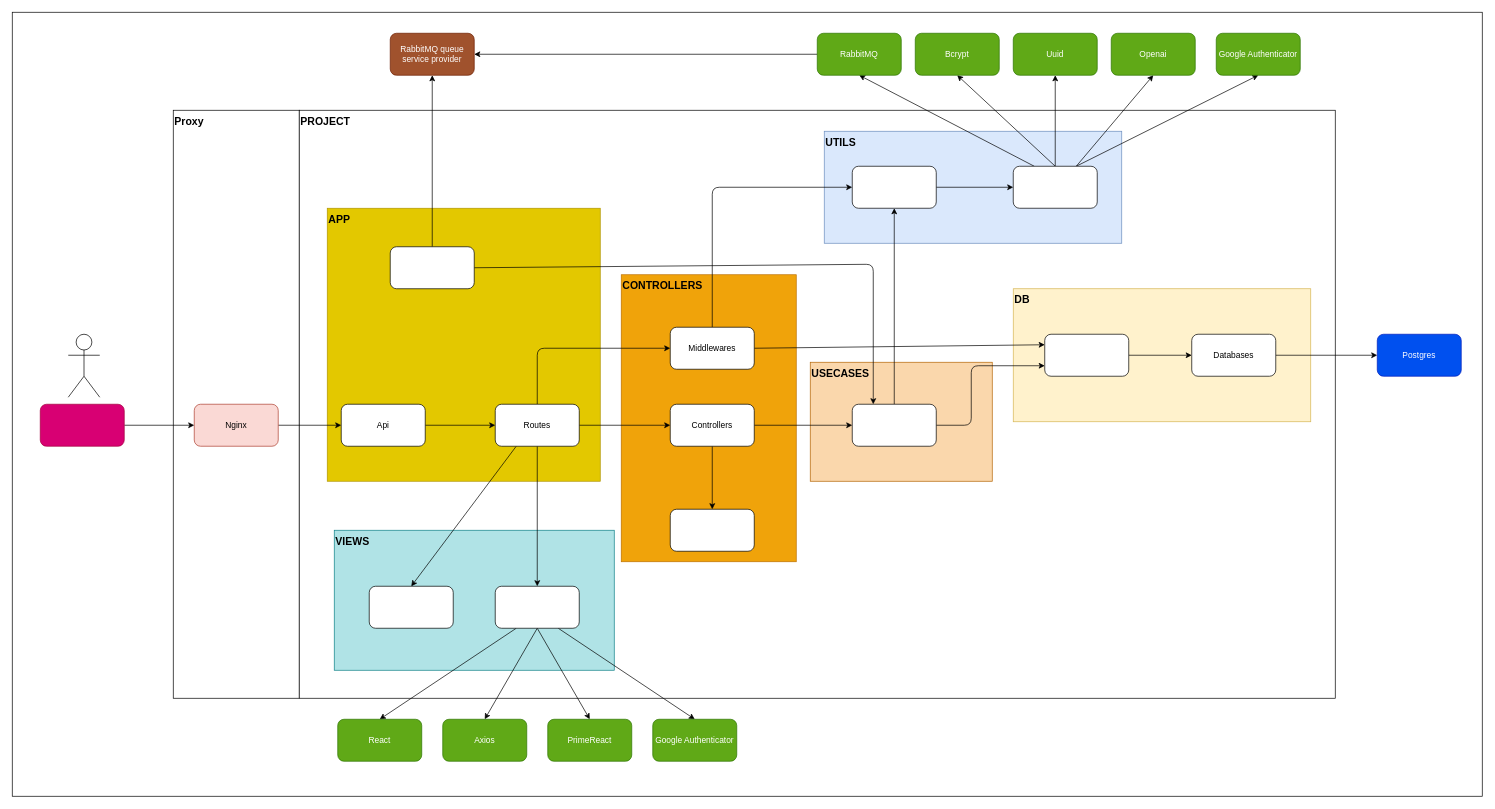
The diagram is 1495 pixels wide and 809 high, and some of its shapes have lost their labels. The box of each missing label's shape, as (x1, y1, x2, y2) in pixels:
Adapters: (852, 166, 936, 208)
App (SPA): (495, 586, 579, 628)
Client: (40, 404, 124, 446)
External libs: (1013, 166, 1097, 208)
Landing page: (369, 586, 453, 628)
Models: (1044, 334, 1129, 376)
QueueConsumer: (390, 246, 474, 289)
Services: (852, 404, 936, 446)
Validators: (670, 509, 754, 551)
